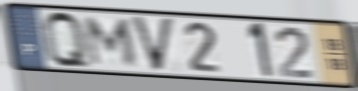1: (246, 20, 275, 80)
2: (272, 24, 317, 81), (183, 20, 223, 75)
M: (85, 15, 139, 68)
Q: (40, 8, 95, 73)
V: (129, 14, 177, 74)
